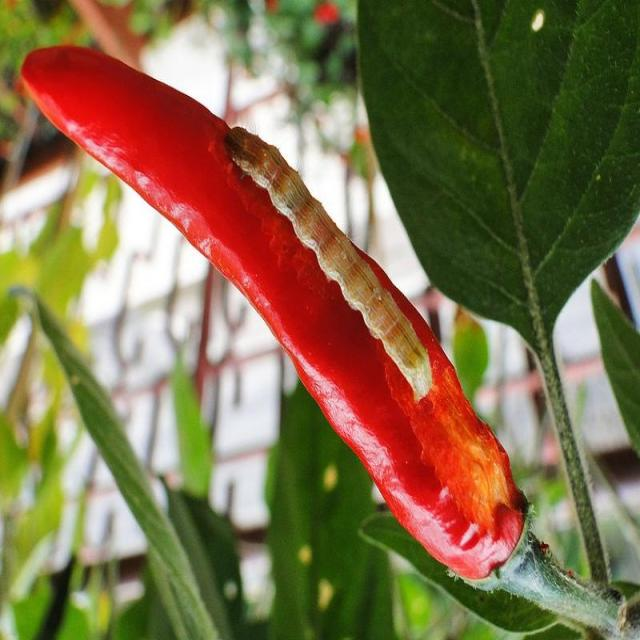grub: (222, 127, 436, 401)
